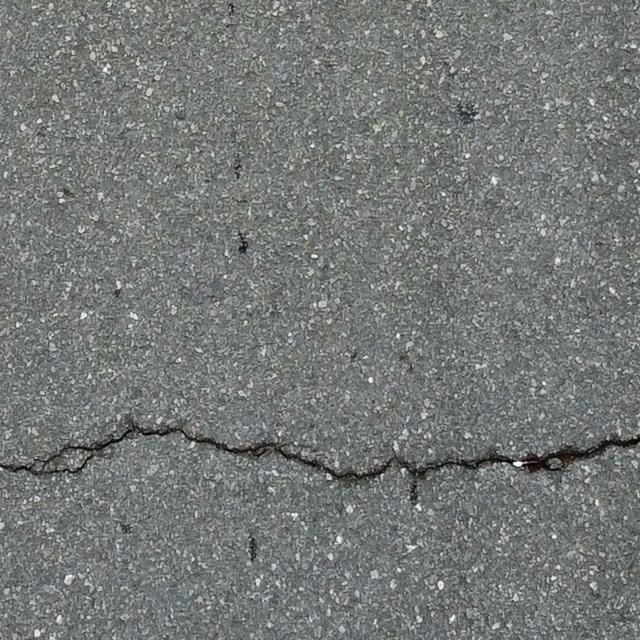TransverseCrack: (1, 419, 640, 486)
